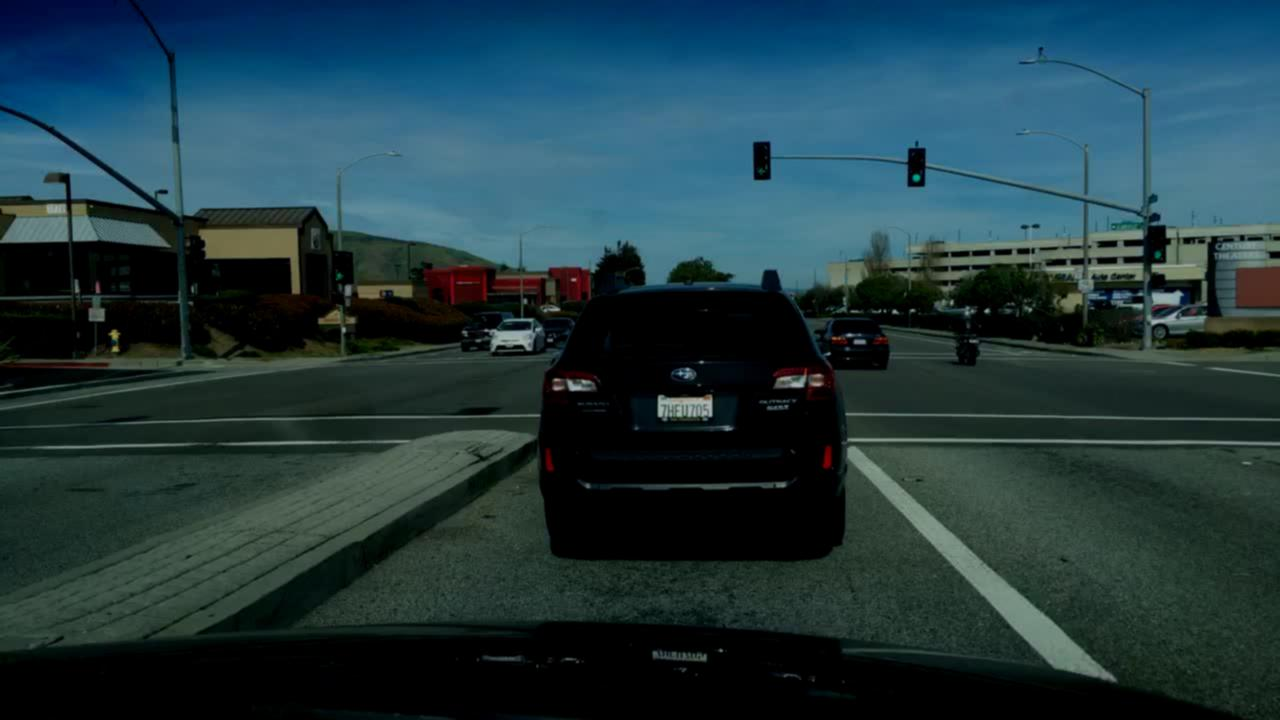subaru: (667, 364, 699, 384)
